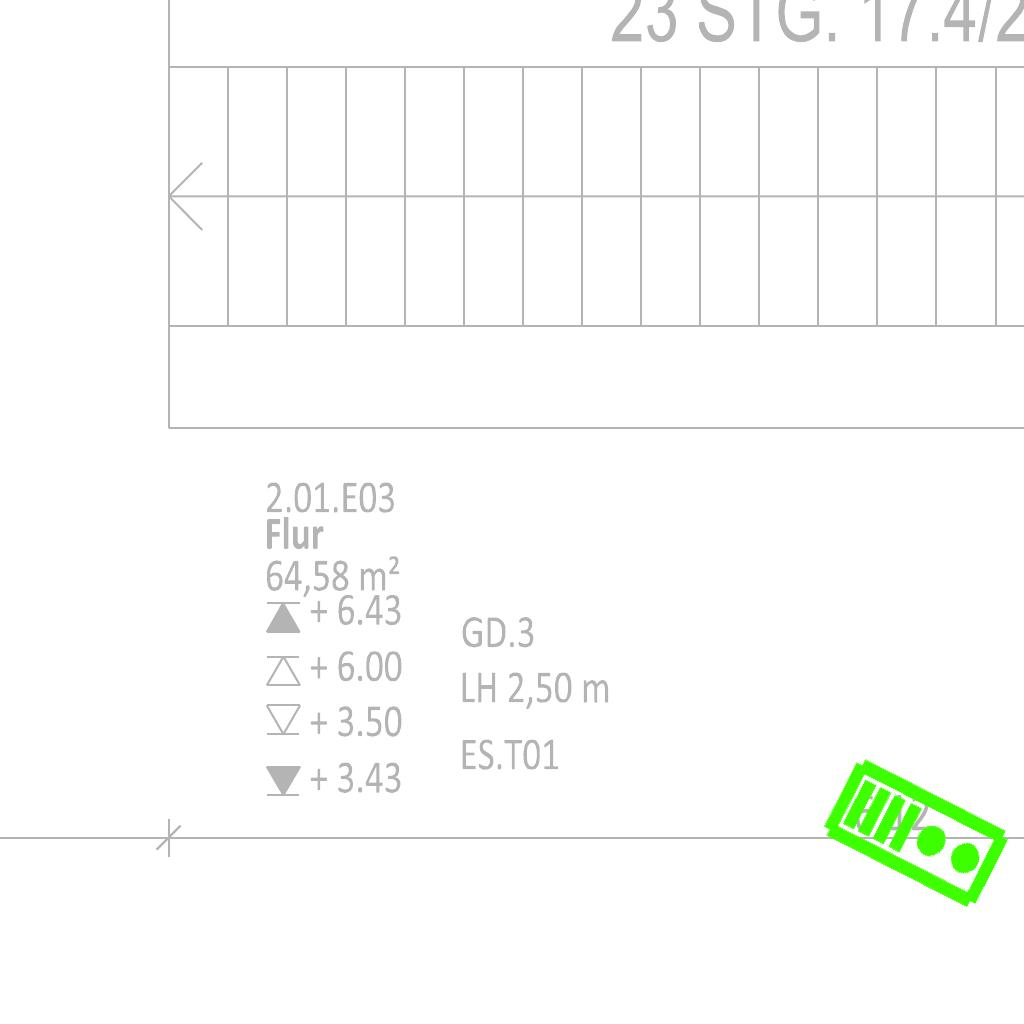Gegensprechanlage_mit_Video: (817, 749, 1018, 915)
